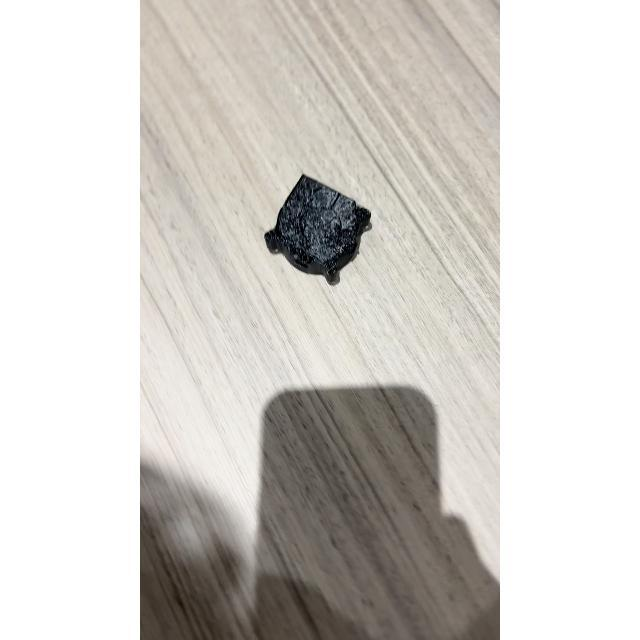Pieza3: (256, 170, 380, 294)
